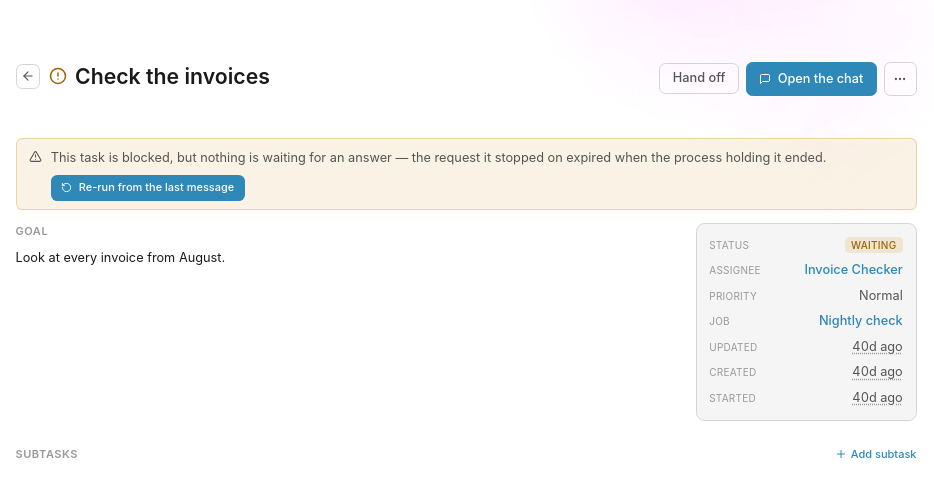
a blocked task with nothing waiting on it › does not start the run when the task refuses to re-open
The width and height of the screenshot is (934, 500).
Expected: the heading "Check the invoices" is shown, x1=75 y1=62 x2=270 y2=91
Click the button "Re-run from the last message".
click(148, 188)  # box x1=51 y1=175 x2=245 y2=201
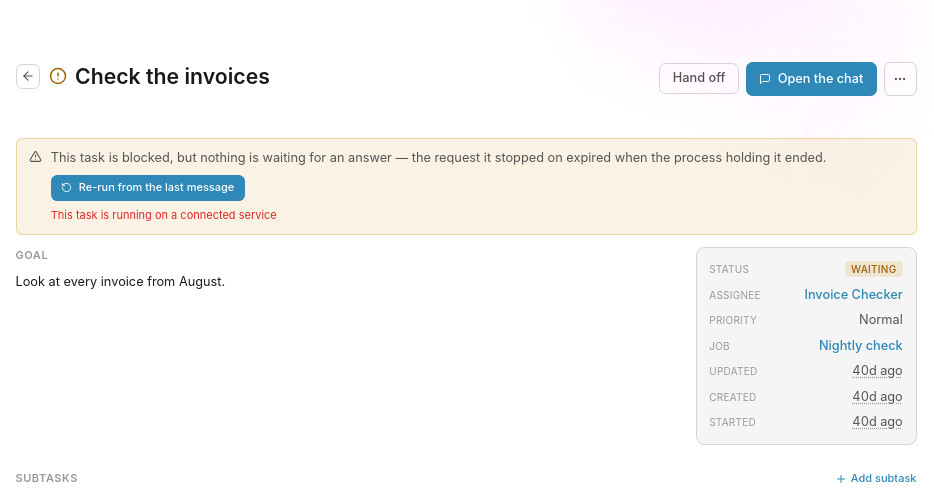
Now the text "This task is running on a connected service" is shown, box x1=51 y1=208 x2=277 y2=222
